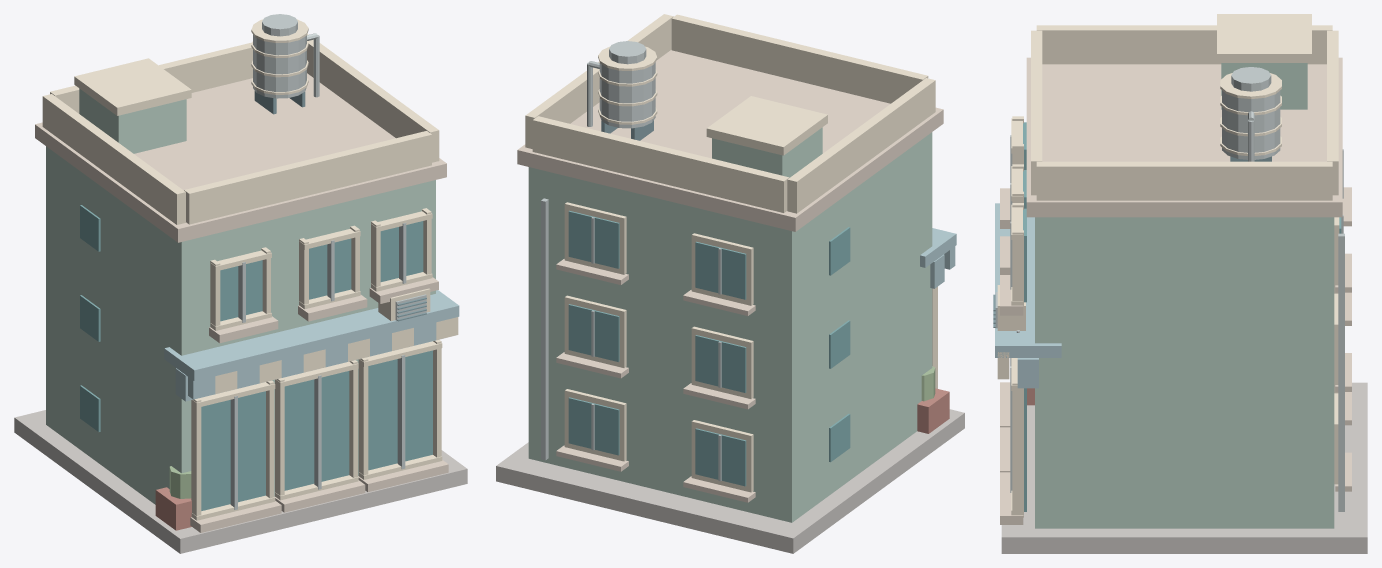
Rendered from town-clinic.glb.
The picture shows the model from 3 angles, left to right: view 1: azimuth 30°, elevation 25°; view 2: azimuth 150°, elevation 25°; view 3: azimuth 270°, elevation 25°; orthographic projection. The views are drawn at different scales.
Parts seen in each view (by area): view 1: paving; view 2: paving; view 3: paving.
Part boxes in pixels (box(x1,y1,x2,y2)): paving: box(14, 14, 467, 553); paving: box(496, 14, 964, 553); paving: box(993, 14, 1367, 553).
Bounding box in the file's own units: 2.2 × 2.91 × 2.25.
1 material, 1 textured.
